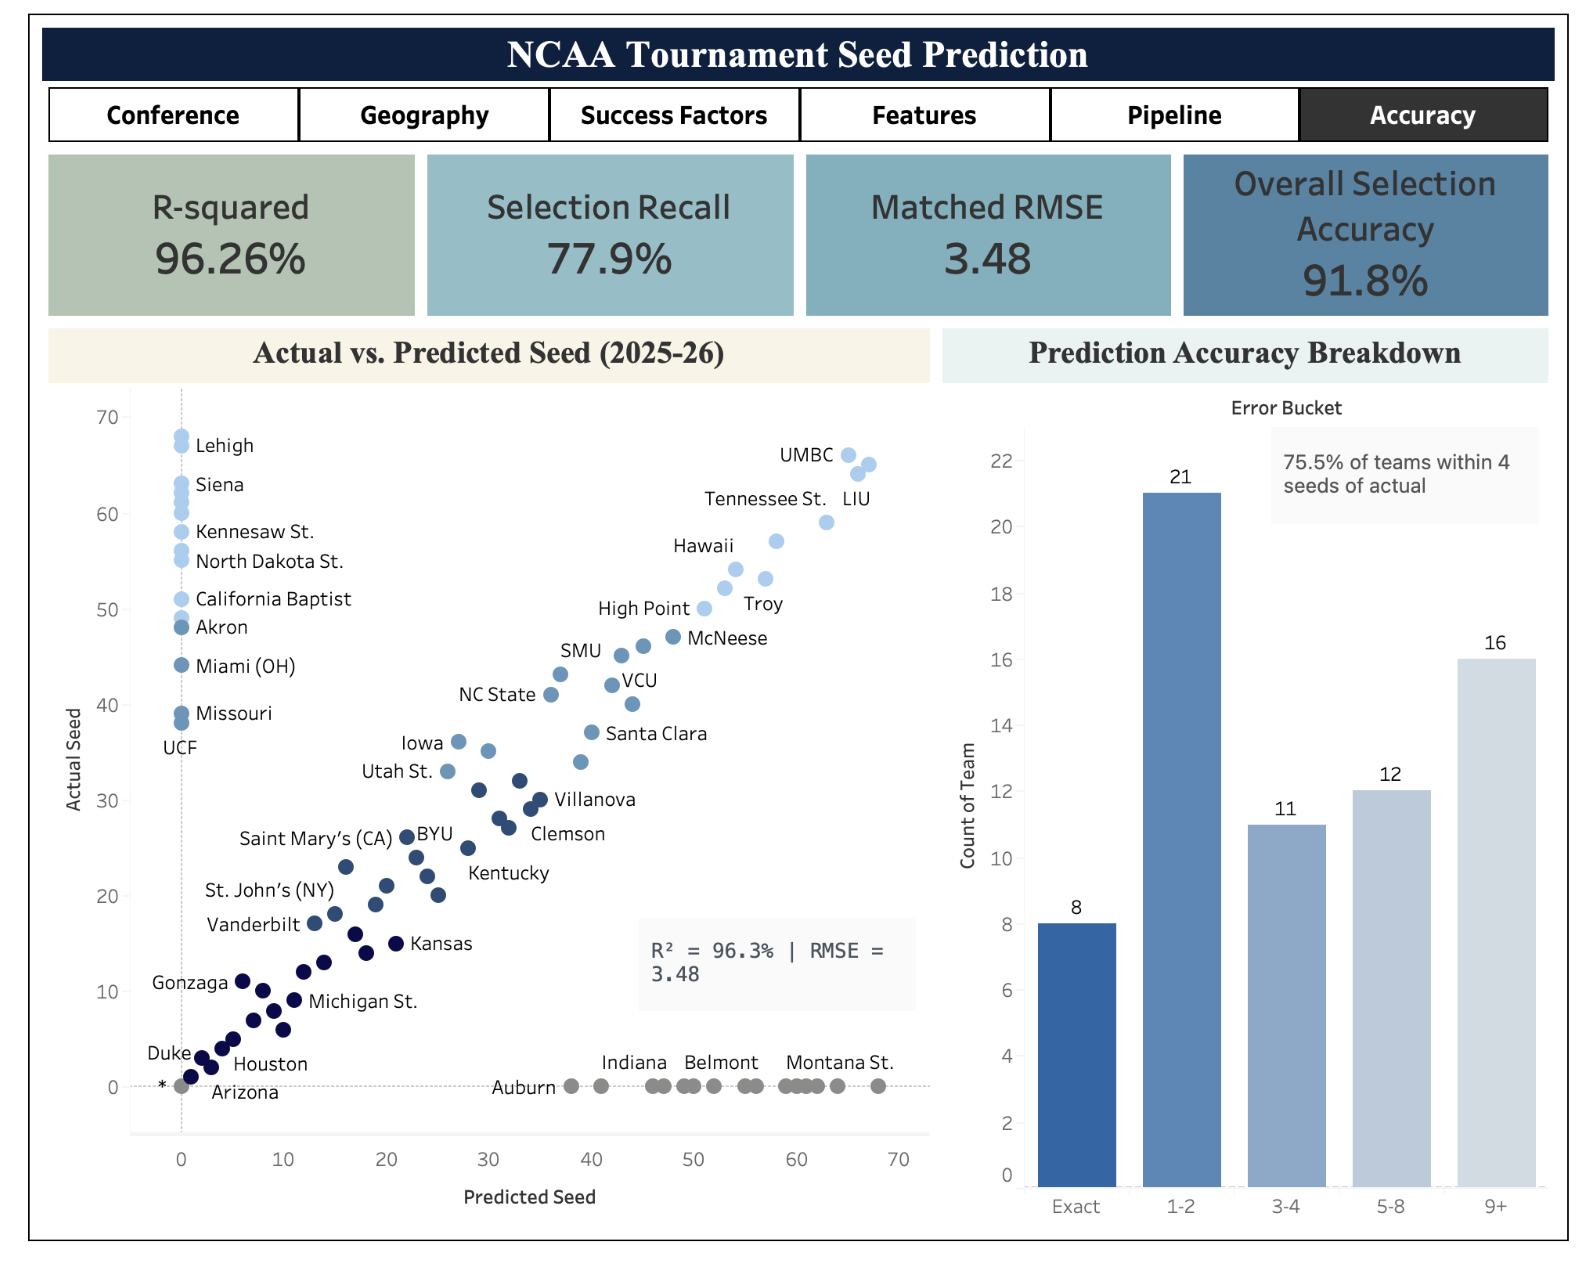

The dashboard page shown, as its layout file describes it:
{"tool":"tableau","page":{"name":"Accuracy","canvas":[1000,800],"ordinal":0},"visuals":[{"type":"title","box":[17,17,966,34]},{"type":"dashboard-object","box":[21,55,160,35]},{"type":"dashboard-object","box":[181,55,160,35]},{"type":"dashboard-object","box":[341,55,160,35]},{"type":"dashboard-object","box":[501,55,160,35]},{"type":"dashboard-object","box":[661,55,159,35]},{"type":"dashboard-object","box":[820,55,159,35]},{"type":"worksheet","title":"R-squared","mark":"Automatic","box":[17,94,242,111]},{"type":"worksheet","title":"Selection Recall","mark":"Automatic","rows":["Metric"],"box":[259,94,242,111]},{"type":"worksheet","title":"Matched RMSE","mark":"Automatic","box":[501,94,241,111]},{"type":"worksheet","title":"Overall Selection Accuracy","mark":"Automatic","box":[742,94,241,111]},{"type":"worksheet","title":"Scatter Plot","mark":"Circle","rows":["Actual_Seed"],"cols":["Predicted_Seed"],"box":[17,204.5,571,578.5]},{"type":"worksheet","title":"Distribution Bucket","mark":"Automatic","rows":["Team"],"cols":["Error_Bucket"],"box":[588,204.5,395,578.5]}]}

Visuals, with their boxes in screenshot pixels (x1, y1, x2, y2), scaled from the page's 1000x800 canvas onto the 1588x1264 screenshot:
title: <box>27,27,1561,81</box>
dashboard-object: <box>33,87,287,142</box>
dashboard-object: <box>287,87,542,142</box>
dashboard-object: <box>542,87,796,142</box>
dashboard-object: <box>796,87,1050,142</box>
dashboard-object: <box>1050,87,1302,142</box>
dashboard-object: <box>1302,87,1555,142</box>
"R-squared" worksheet: <box>27,149,411,324</box>
"Selection Recall" worksheet: <box>411,149,796,324</box>
"Matched RMSE" worksheet: <box>796,149,1178,324</box>
"Overall Selection Accuracy" worksheet: <box>1178,149,1561,324</box>
"Scatter Plot" worksheet (Circle marks): <box>27,323,934,1237</box>
"Distribution Bucket" worksheet: <box>934,323,1561,1237</box>
